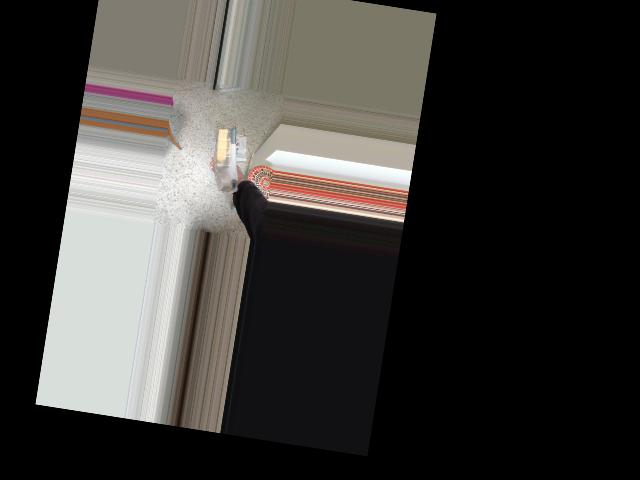cheese: (207, 125, 246, 192)
